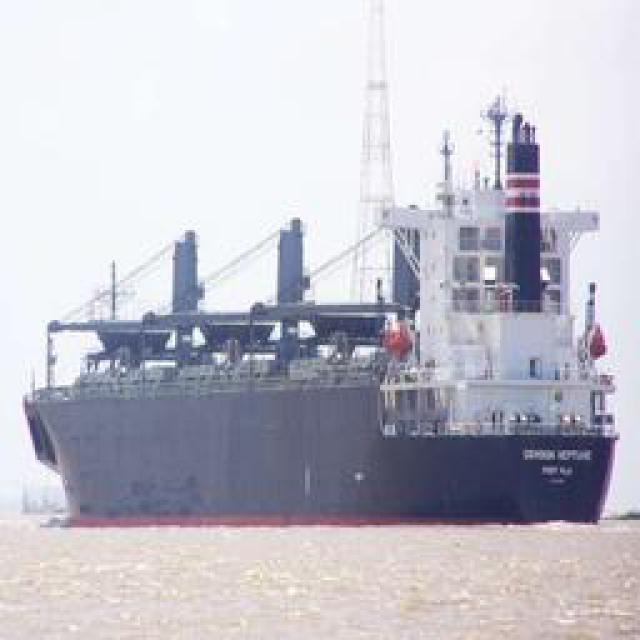Ship: (38, 154, 626, 534)
